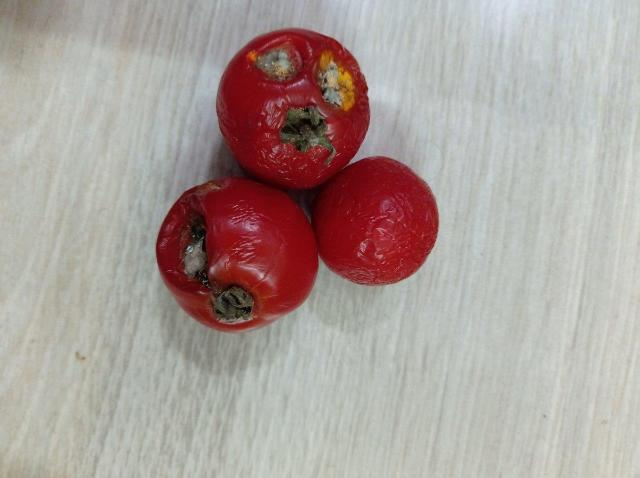defect: (215, 26, 374, 194), (154, 175, 319, 335), (298, 150, 441, 287)
